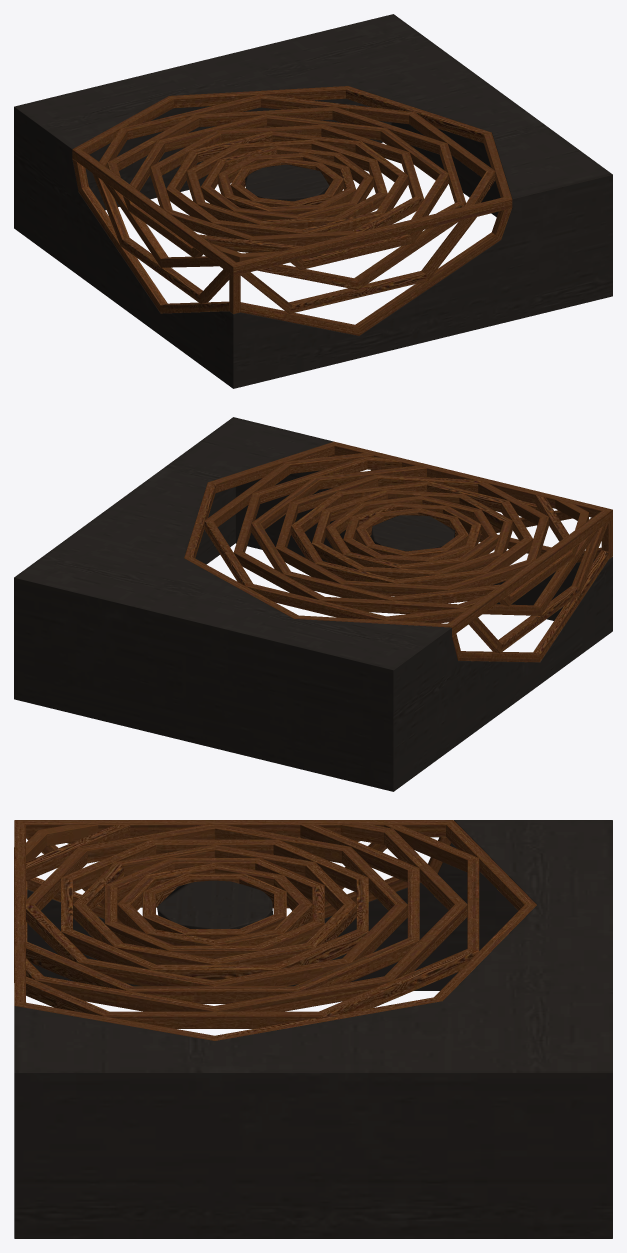
File: modern_coffee_table_02.glb
3 renders of one model, top to bottom at view 1: azimuth 30°, elevation 25°; view 2: azimuth 150°, elevation 25°; view 3: azimuth 270°, elevation 25°, orthographic. The views are drawn at different scales.
Visible parts, largest first — view 1: modern_coffee_table_02; view 2: modern_coffee_table_02; view 3: modern_coffee_table_02.
Part boxes in pixels (bbox=[...]): modern_coffee_table_02: bbox=[14, 14, 612, 388]; modern_coffee_table_02: bbox=[14, 417, 612, 791]; modern_coffee_table_02: bbox=[14, 820, 612, 1238].
Bounding box in the file's own units: 1.2 × 0.3692 × 1.2.
2 materials, 2 textured.
